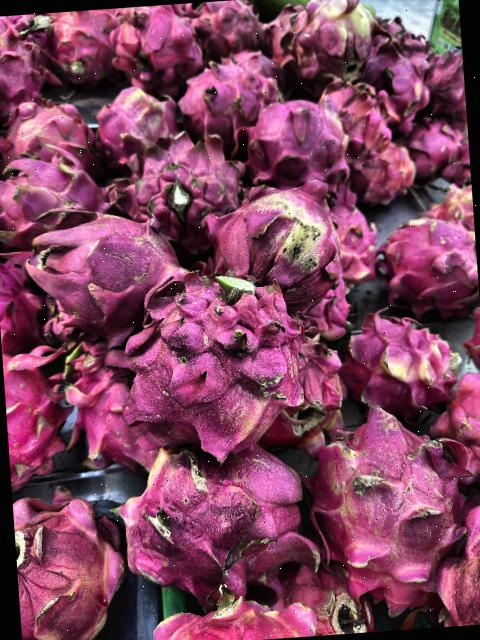buah-naga-belum-matang: (113, 425, 312, 594), (208, 168, 342, 302), (339, 302, 462, 411), (92, 76, 182, 162), (287, 0, 380, 79)
buah-naga-matang: (293, 392, 469, 607), (130, 264, 307, 449), (24, 198, 190, 336), (12, 485, 128, 640), (60, 328, 188, 467), (117, 133, 240, 240), (0, 144, 113, 244), (374, 208, 480, 312), (1, 342, 75, 487), (176, 56, 290, 148), (244, 92, 339, 188), (106, 5, 212, 90), (0, 94, 98, 169), (314, 70, 394, 160), (42, 8, 121, 85), (352, 38, 431, 114), (434, 364, 480, 490), (437, 499, 480, 626), (0, 13, 50, 105), (325, 194, 378, 280), (0, 255, 48, 346), (348, 146, 422, 203), (194, 0, 264, 52), (406, 115, 463, 178), (420, 45, 466, 118)
